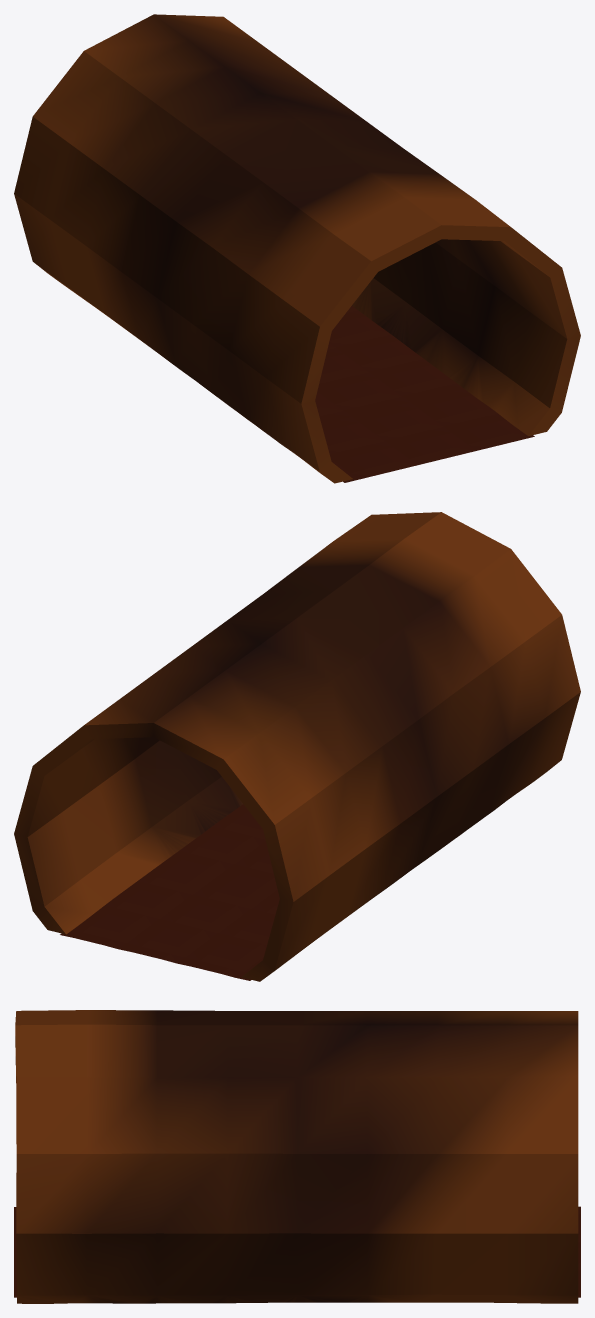
File: Tunnel vierge ok.fbx
3 views of the same model, one above another, from view 1: azimuth 30°, elevation 25°; view 2: azimuth 150°, elevation 25°; view 3: azimuth 270°, elevation 25° (orthographic). The views are drawn at different scales.
Visible parts, largest first — view 1: Cylindre 1; view 2: Cylindre 1; view 3: Cylindre 1.
Boxes of the visible parts, x1,y1,x2,y2 form: Cylindre 1: (14, 14, 580, 483); Cylindre 1: (14, 512, 580, 981); Cylindre 1: (14, 1010, 580, 1303).
Size of the model in its own units: 4.55 by 3.65 by 8.18.
